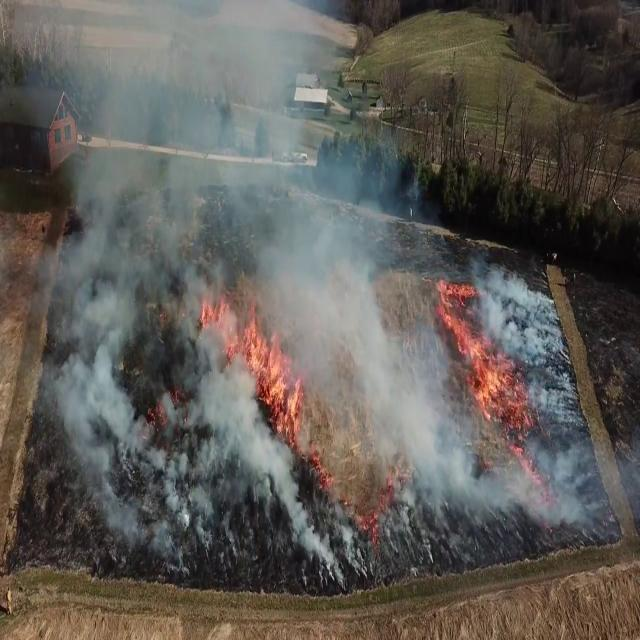Fire: (202, 278, 303, 442), (434, 278, 524, 442)
Smoke: (16, 2, 523, 572)
